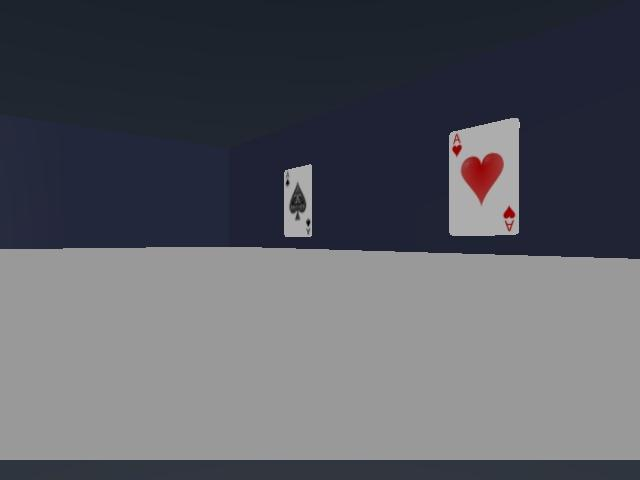heart: (449, 118, 518, 235)
spade: (284, 165, 312, 236)
